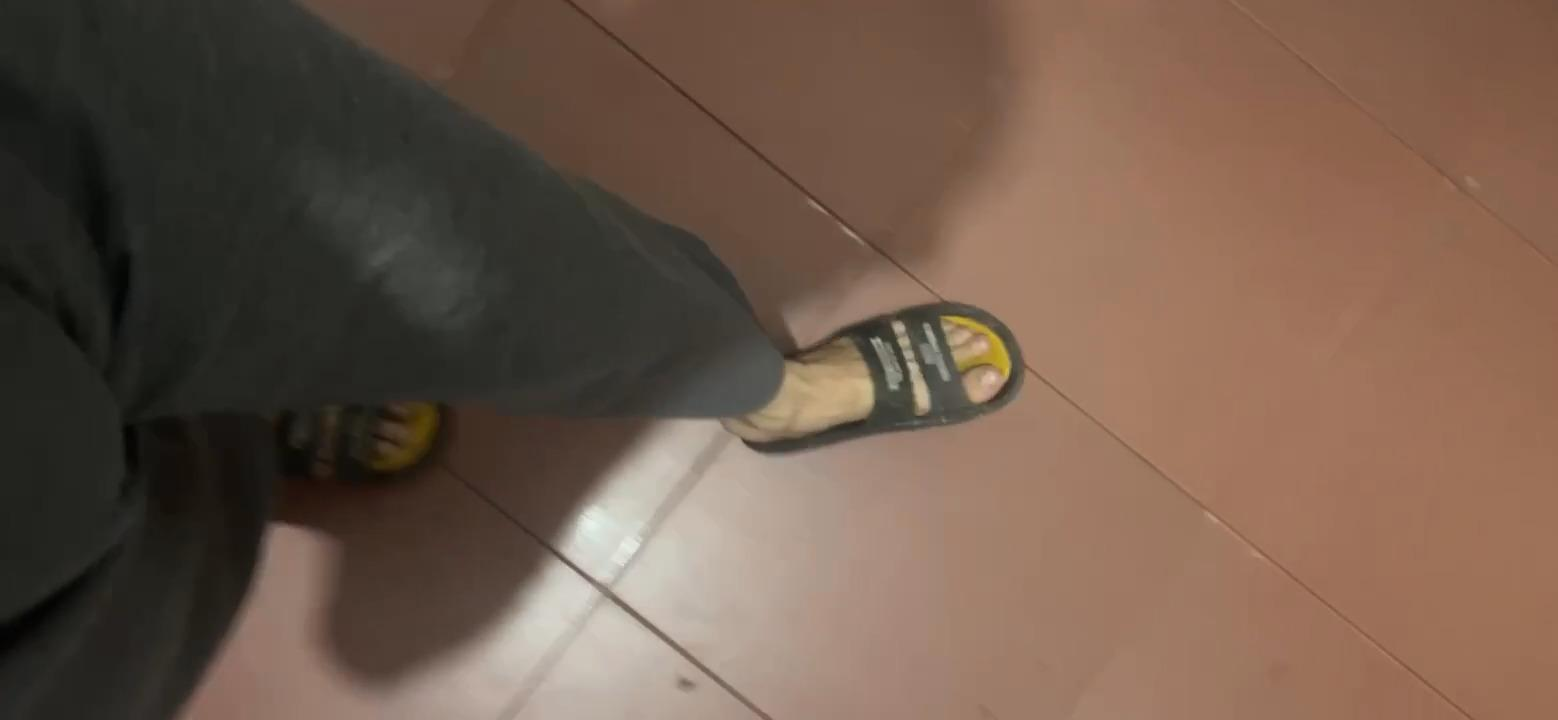no-boot: (735, 309, 1051, 447)
